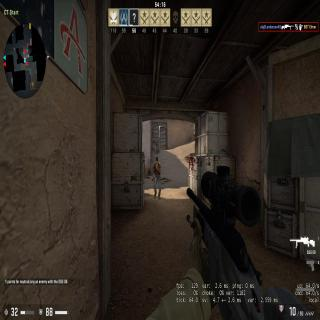T-Body: (152, 156, 161, 195)
T-Head: (156, 156, 158, 162)
